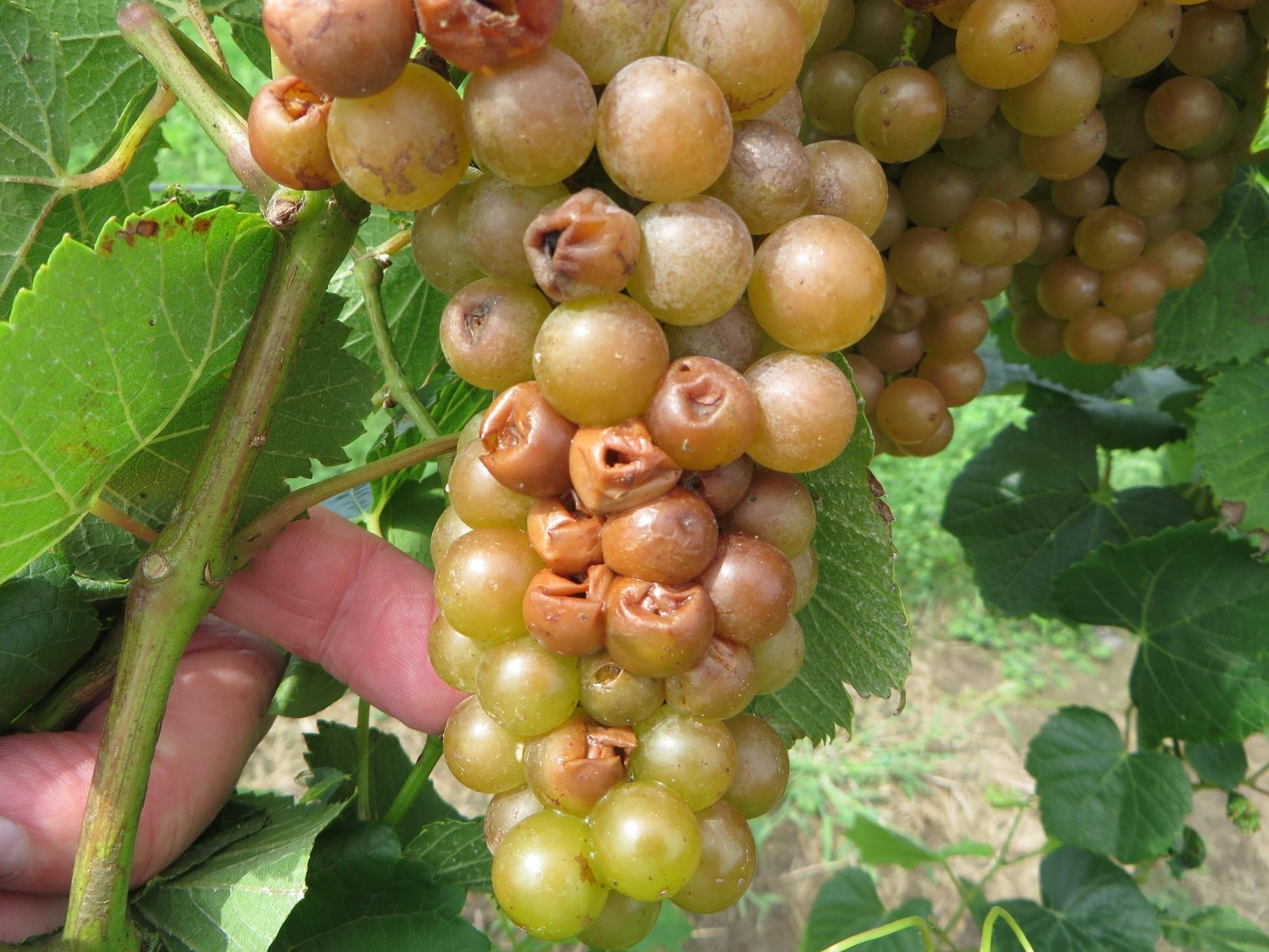Grape Rotten: (243, 1, 1262, 948)
